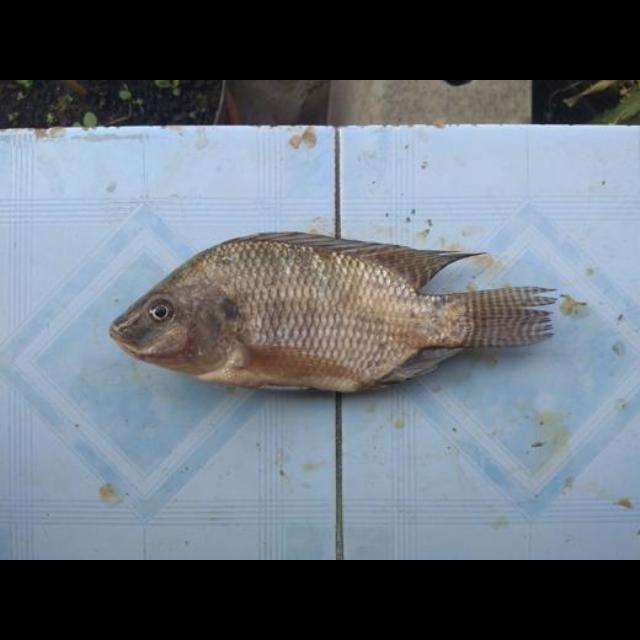Tilapia: (111, 231, 554, 399)
